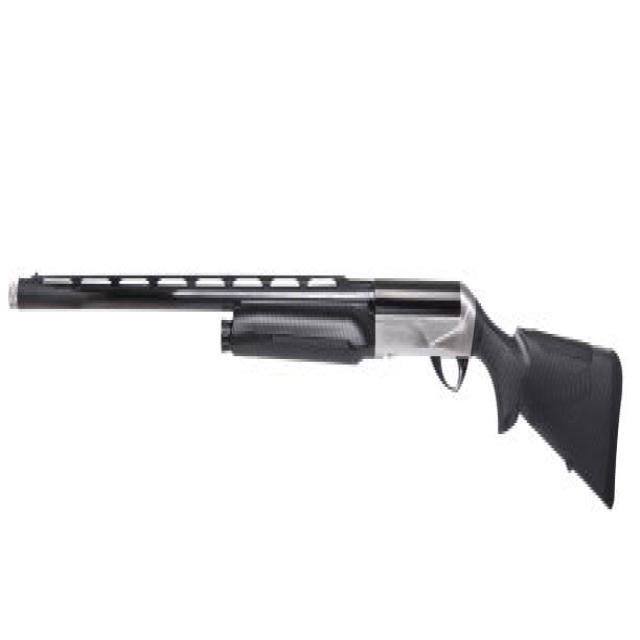rifle: (7, 248, 631, 535)
